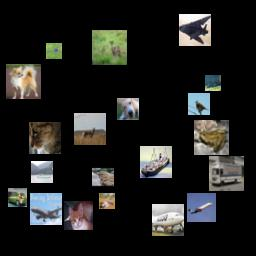airplane: (179, 14, 211, 46), (30, 193, 62, 225), (152, 204, 184, 236), (187, 193, 216, 222)
automobile: (8, 188, 27, 207)
bird: (92, 166, 114, 188), (188, 93, 210, 115), (46, 43, 62, 59)
cat: (29, 122, 61, 154), (64, 201, 93, 230)
deer: (92, 30, 127, 65), (74, 113, 106, 145), (205, 75, 221, 91), (99, 193, 115, 209)
dog: (6, 64, 41, 99), (117, 98, 139, 120)
frog: (194, 120, 229, 155)
ship: (140, 146, 172, 178), (31, 161, 53, 183)
truck: (209, 156, 244, 191)
